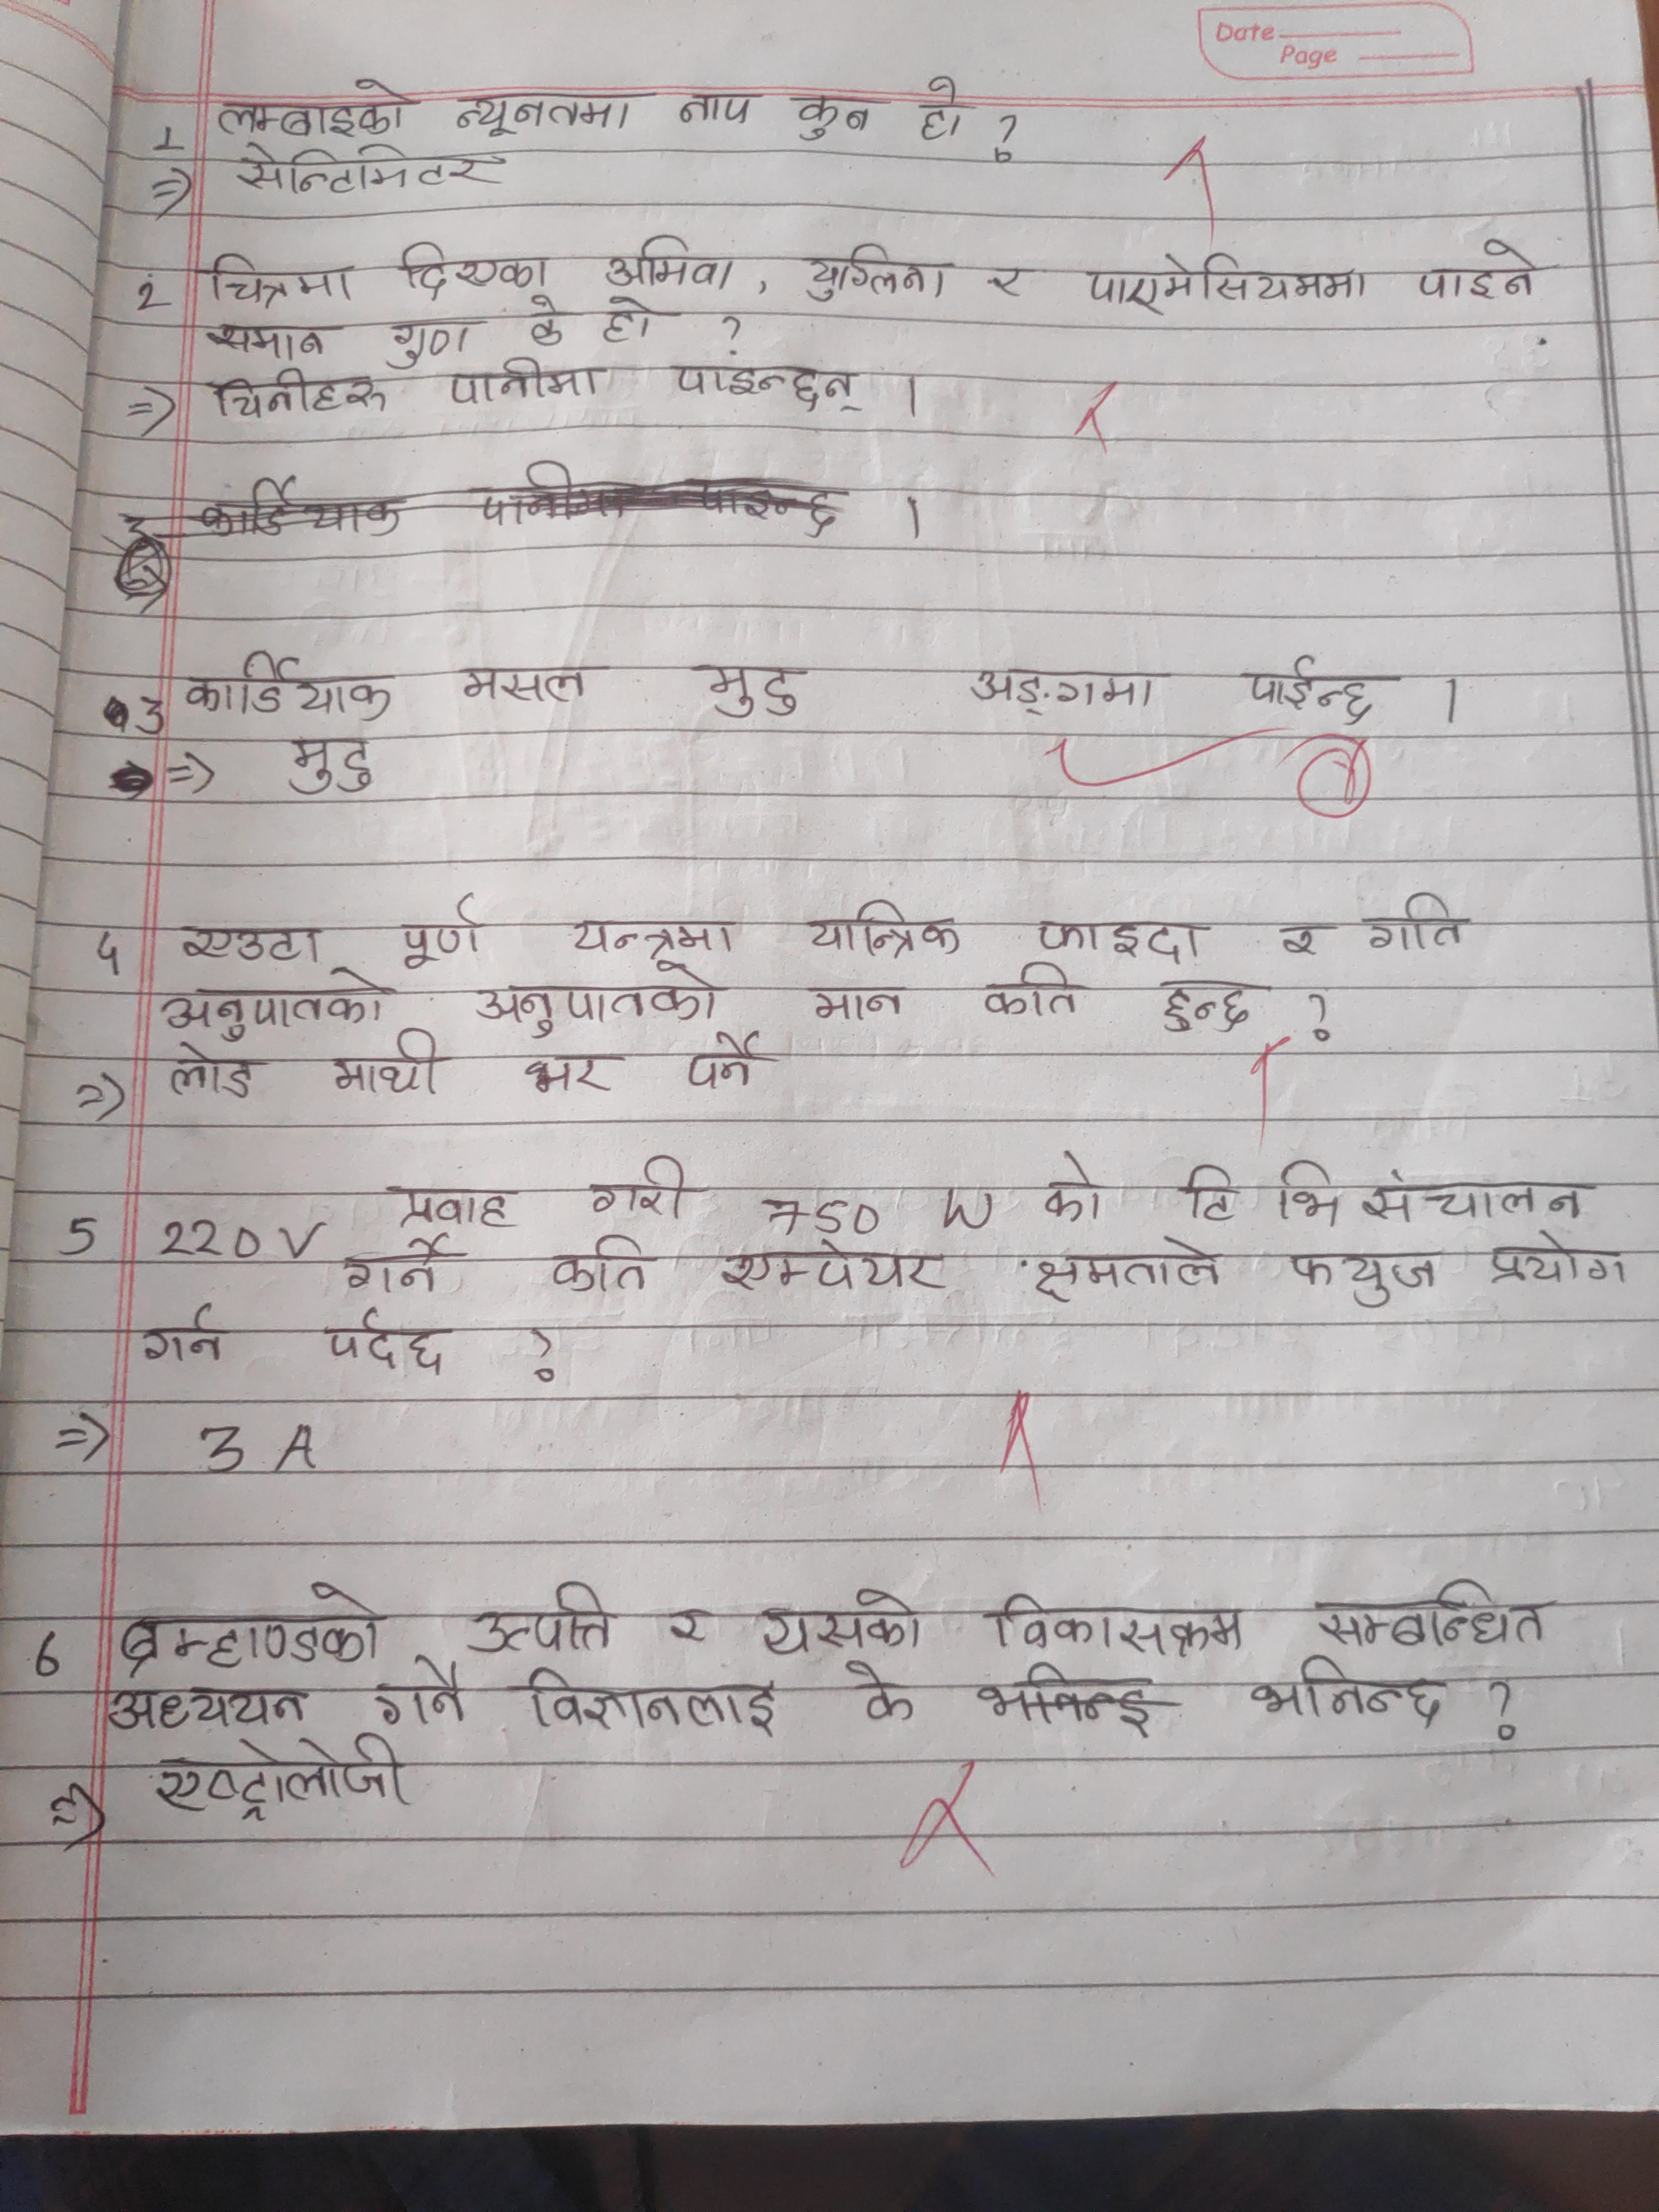text: (115, 1578, 392, 1677), (153, 1738, 416, 1824), (525, 1663, 784, 1737), (1075, 247, 1377, 310), (1312, 1580, 1556, 1651), (990, 1588, 1244, 1656), (159, 970, 387, 1043), (181, 650, 399, 726), (481, 965, 725, 1033), (1358, 1163, 1591, 1233), (230, 141, 502, 197), (1251, 1660, 1453, 1733), (978, 1658, 1154, 1740), (1021, 1244, 1230, 1305), (756, 1585, 939, 1653), (460, 1581, 620, 1656), (101, 1677, 315, 1733), (669, 359, 868, 418), (211, 84, 413, 141), (720, 1245, 950, 1296), (1178, 1160, 1340, 1231), (967, 662, 1166, 716), (1248, 653, 1387, 730), (1478, 1224, 1635, 1291), (209, 361, 390, 416), (1410, 233, 1544, 308), (805, 895, 969, 956), (394, 239, 558, 298), (805, 244, 964, 305), (1288, 1245, 1448, 1305), (451, 92, 641, 141), (443, 352, 610, 406), (575, 909, 737, 965), (603, 232, 744, 294), (207, 251, 361, 308), (1026, 916, 1211, 963), (329, 1026, 448, 1099), (319, 1308, 451, 1372), (1366, 883, 1473, 961), (174, 918, 328, 972), (1150, 967, 1267, 1036), (369, 1658, 476, 1733), (586, 1151, 690, 1226), (338, 1237, 457, 1299), (549, 1231, 655, 1299), (460, 658, 603, 707), (394, 894, 486, 968), (983, 963, 1089, 1024), (387, 1183, 514, 1233), (701, 658, 812, 716), (286, 733, 382, 798), (167, 1036, 260, 1103), (143, 1305, 232, 1372), (202, 317, 338, 361), (836, 1662, 917, 1733), (795, 984, 913, 1031), (791, 91, 884, 150), (519, 1049, 620, 1103), (1037, 1150, 1110, 1223), (913, 66, 976, 150), (688, 1033, 769, 1097), (383, 320, 479, 369), (678, 80, 760, 134), (601, 291, 669, 348), (979, 261, 1033, 308), (519, 294, 566, 348), (666, 1599, 713, 1648), (1276, 918, 1324, 963)
